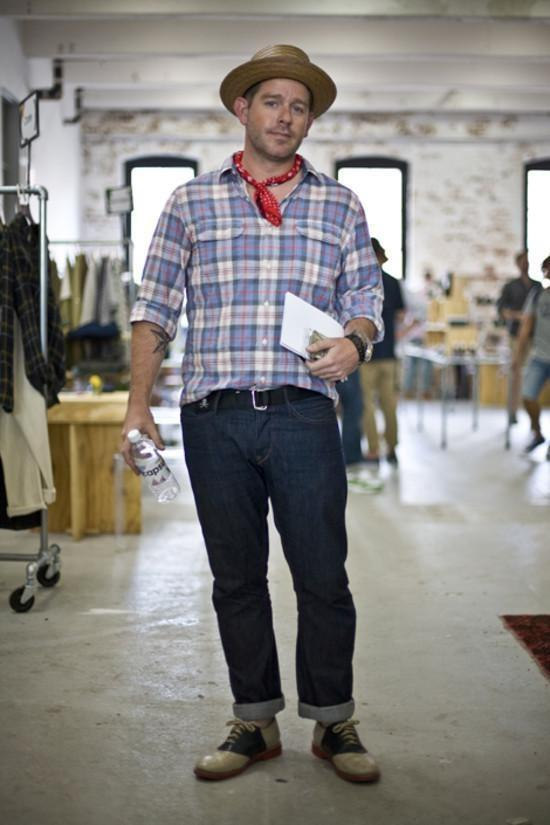pants: (177, 386, 356, 720)
shirt: (130, 153, 386, 406)
